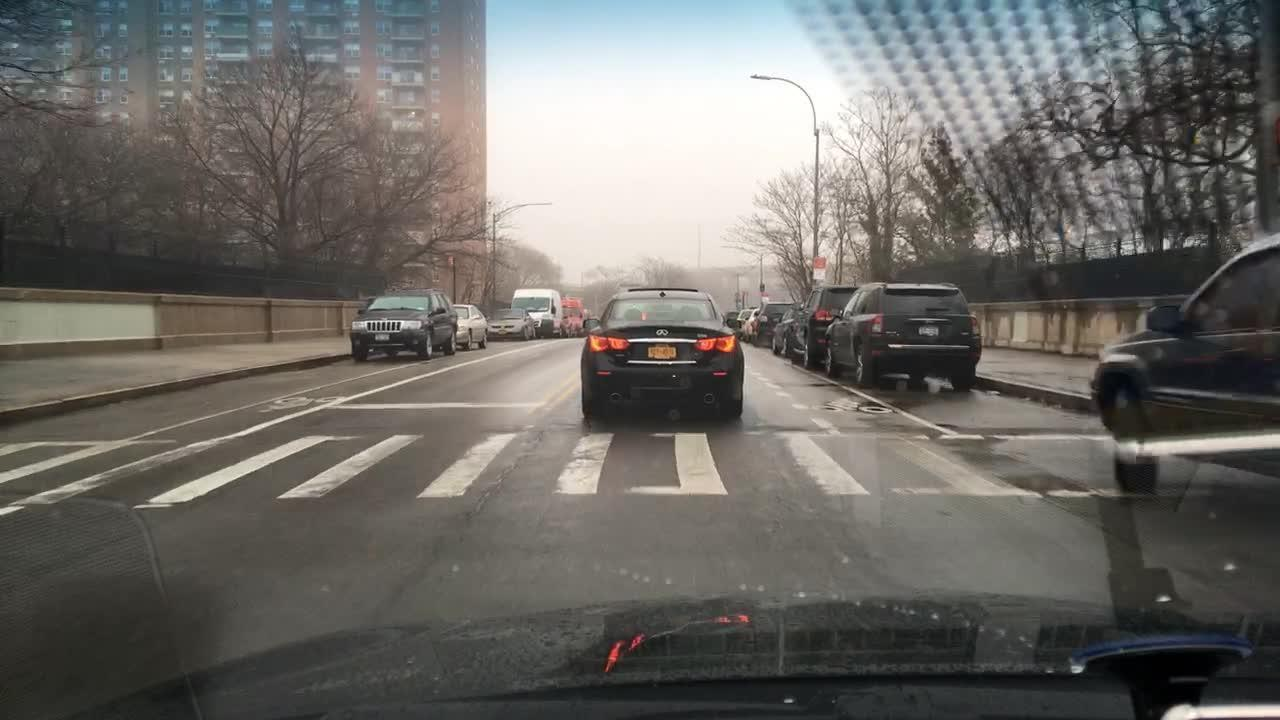Infiniti: (651, 325, 674, 339)
